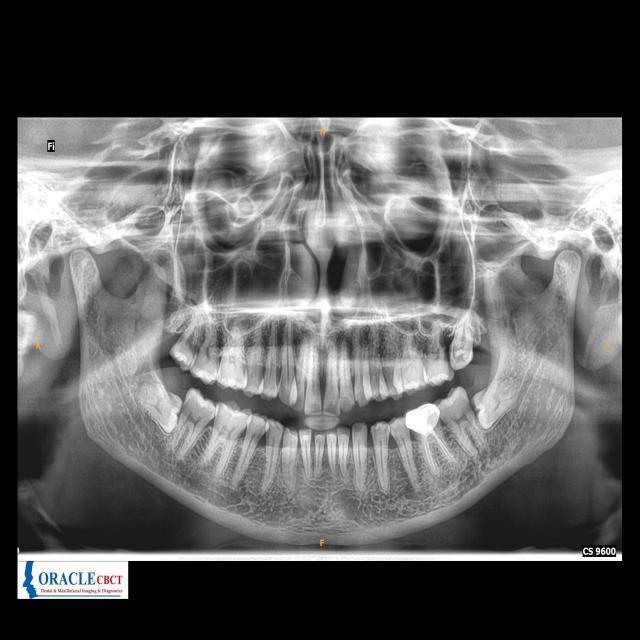kanal-tedavisi: (418, 436, 456, 473)
kaplama: (408, 405, 443, 435)
